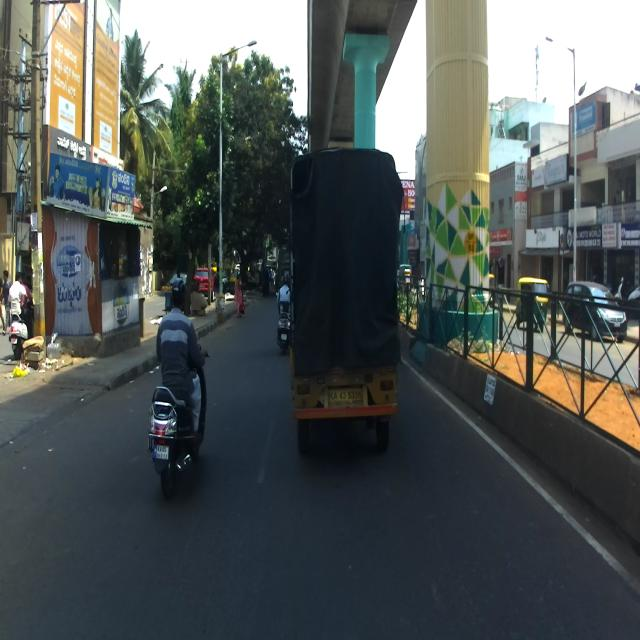car ahead at: (286, 139, 405, 466)
motorcycle ahead at: (144, 381, 214, 498)
